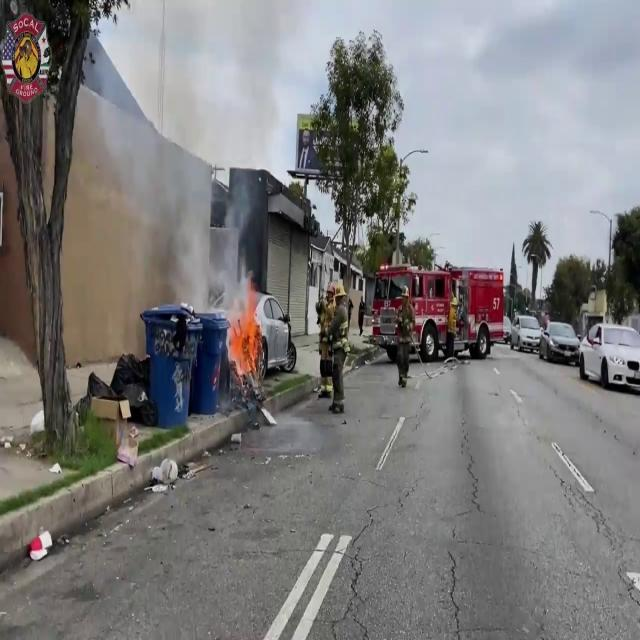Fire: (227, 282, 265, 384)
Smoke: (130, 10, 252, 312)
